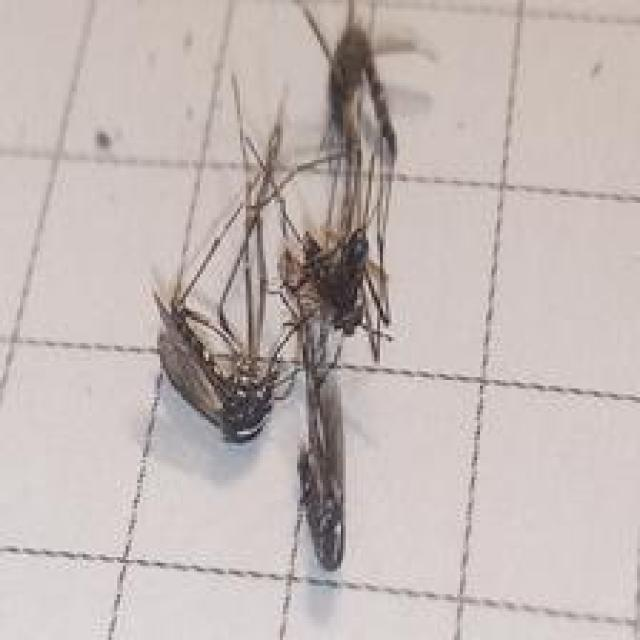Aedes albopictus: (148, 0, 414, 571)
